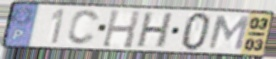0: (179, 12, 212, 53)
1: (50, 7, 67, 46)
C: (65, 9, 101, 47)
H: (100, 8, 142, 50), (134, 11, 175, 49)
M: (206, 15, 251, 52)
